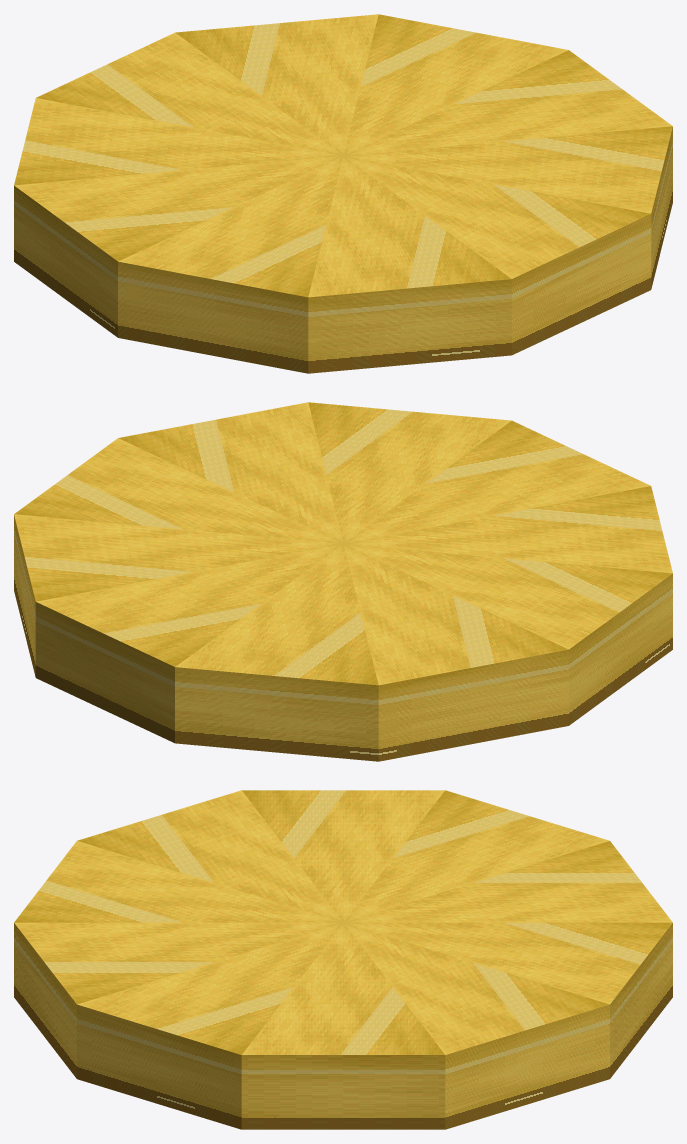
Rendered from moeda_de_ouro.glb.
3 renders of one model, top to bottom at view 1: azimuth 30°, elevation 25°; view 2: azimuth 150°, elevation 25°; view 3: azimuth 270°, elevation 25°, orthographic. The views are drawn at different scales.
Parts seen in each view (by area): view 1: moeda_de_ouro; view 2: moeda_de_ouro; view 3: moeda_de_ouro.
Boxes of the visible parts, bbox=[...] form: moeda_de_ouro: bbox=[14, 14, 672, 373]; moeda_de_ouro: bbox=[14, 402, 672, 761]; moeda_de_ouro: bbox=[14, 790, 672, 1129].
Size of the model in its own units: 0.0609 by 0.008 by 0.064.
Materials: 1 (1 with a texture image).
